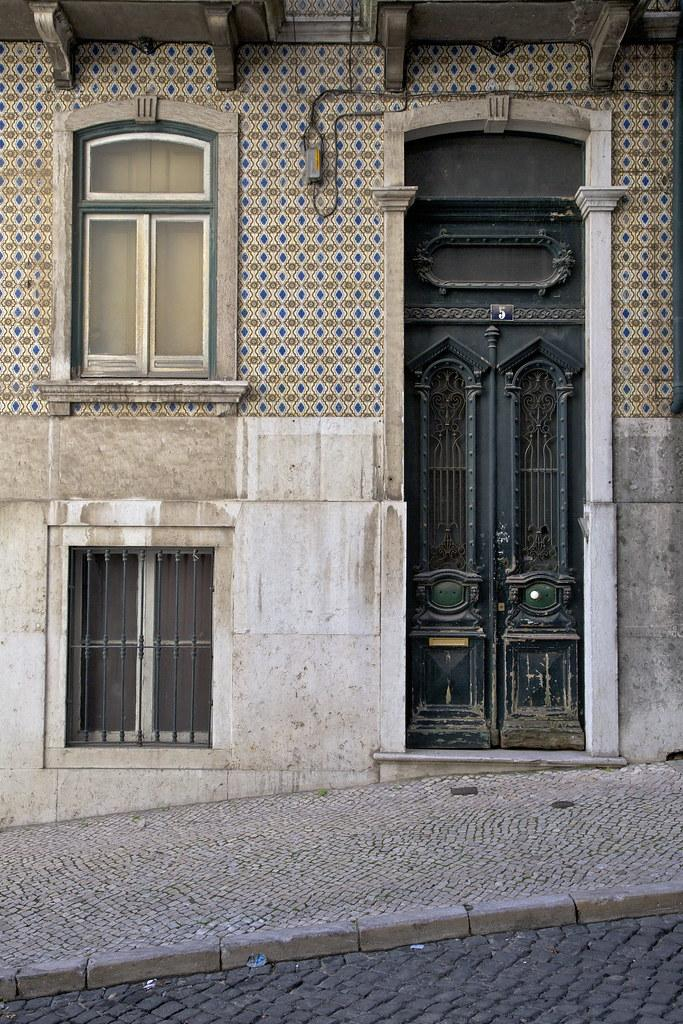door: (404, 201, 587, 752)
